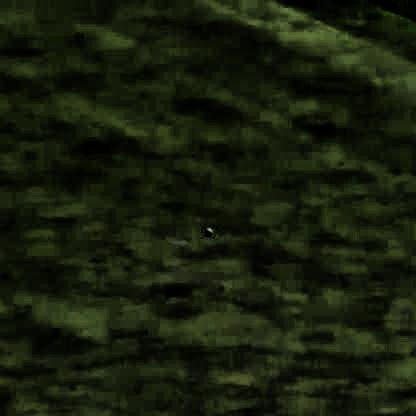golfball: (202, 224, 212, 234)
